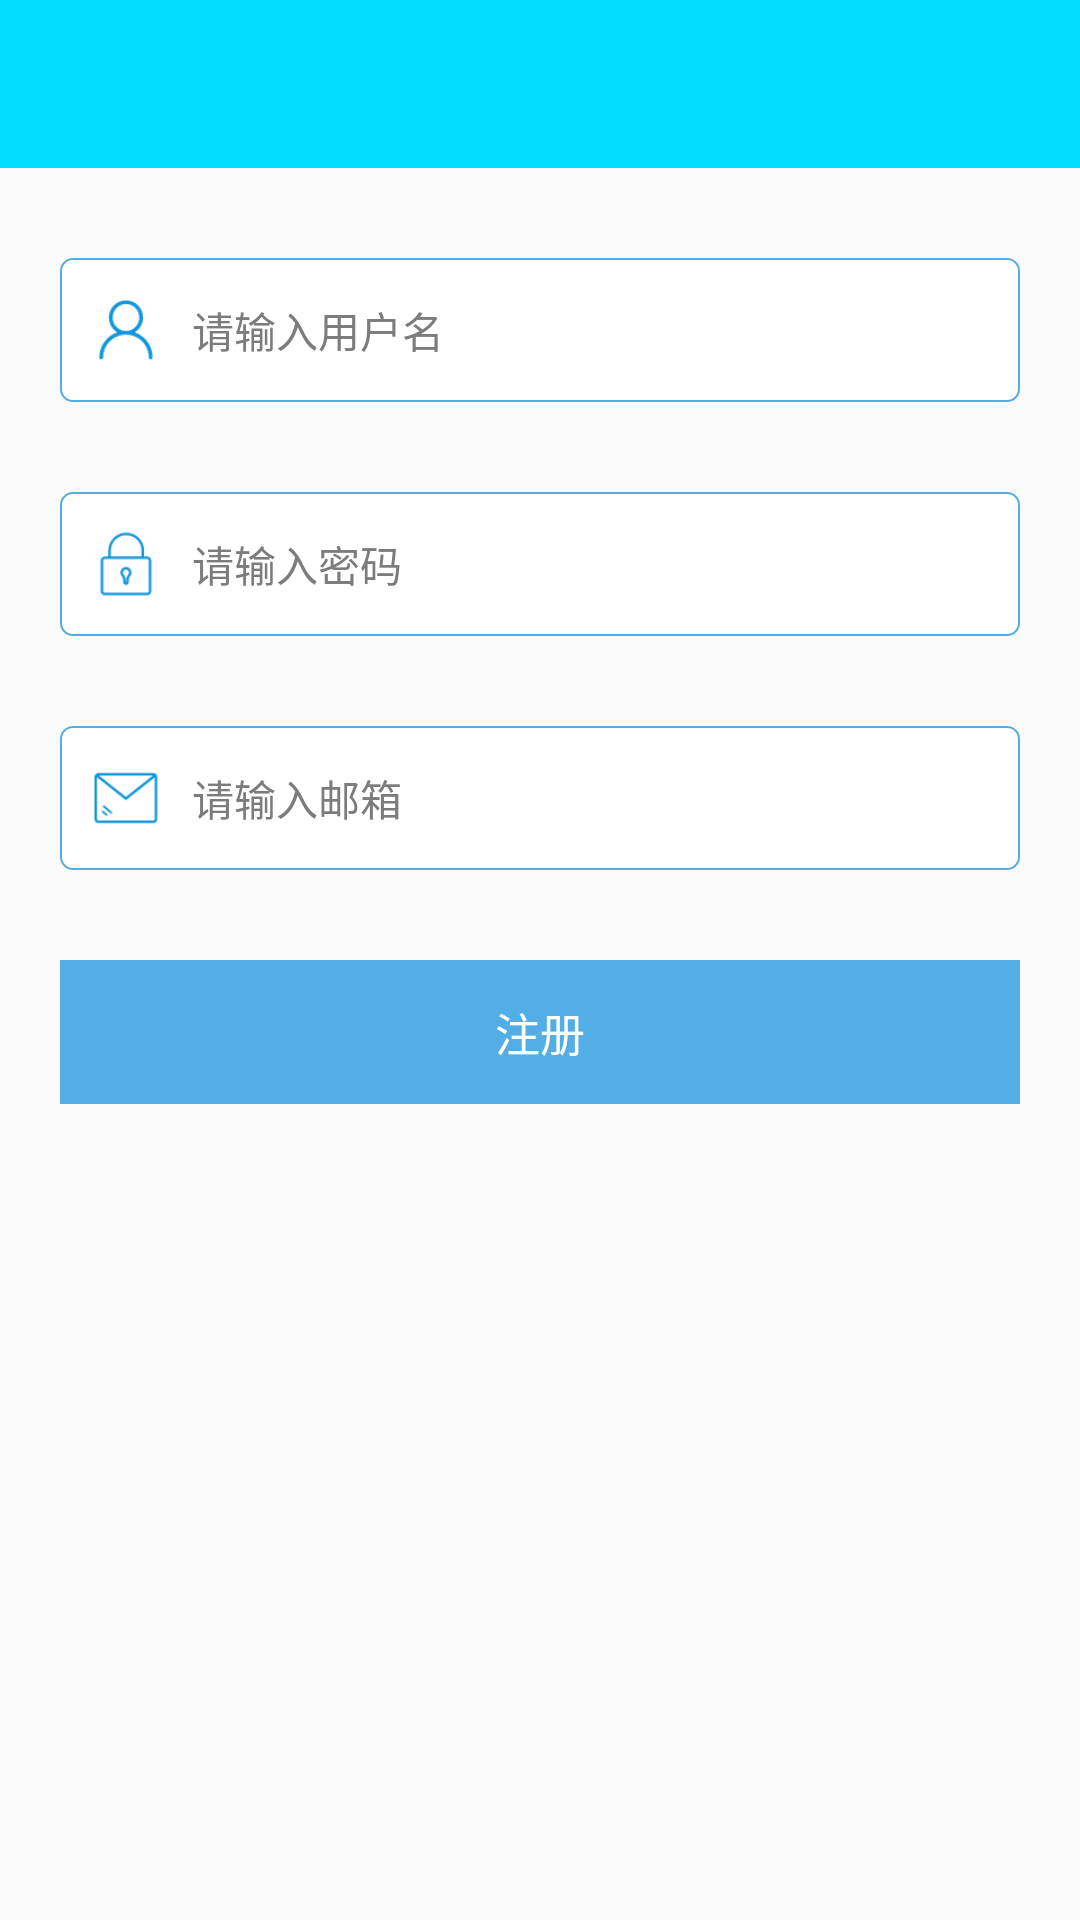

Screen size 1080px×1920px. Icon name, then its box in pixels as (x1, y1, x2, y2):
login email: (94, 772, 158, 824)
login pw: (100, 532, 152, 596)
login user: (99, 300, 153, 360)
